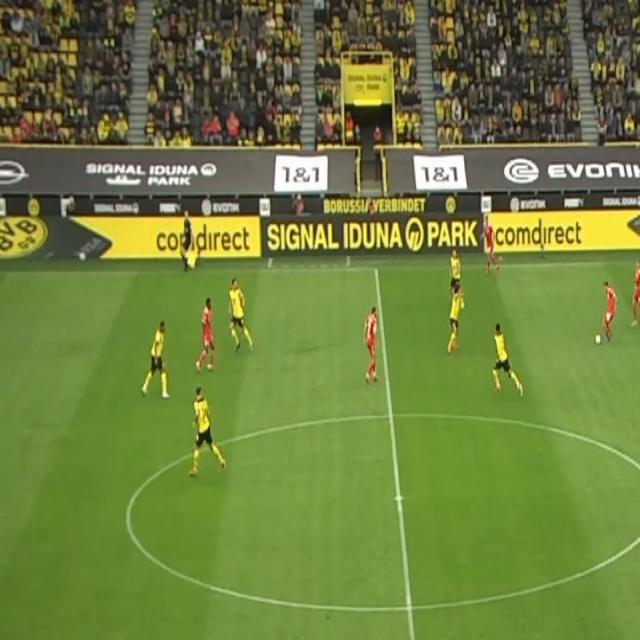ball: (594, 332, 602, 346)
